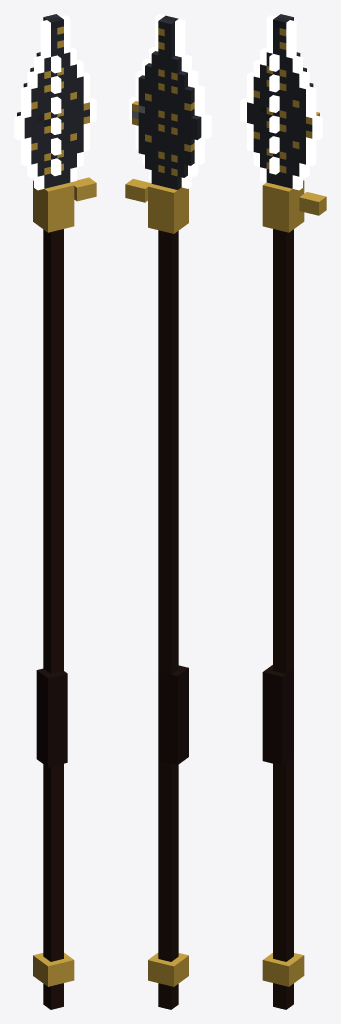
Rendered from spear_legendary.glb.
3 renders of one model, left to right at view 1: azimuth 30°, elevation 25°; view 2: azimuth 150°, elevation 25°; view 3: azimuth 330°, elevation 25°, orthographic.
Visible parts, largest first — view 1: spear_legendary; view 2: spear_legendary; view 3: spear_legendary.
Part boxes in pixels (<box>): spear_legendary: <box>14,14,96,1009</box>; spear_legendary: <box>125,14,211,1009</box>; spear_legendary: <box>240,14,326,1009</box>.
Size of the model in its own units: 0.18 by 2.16 by 0.06.
